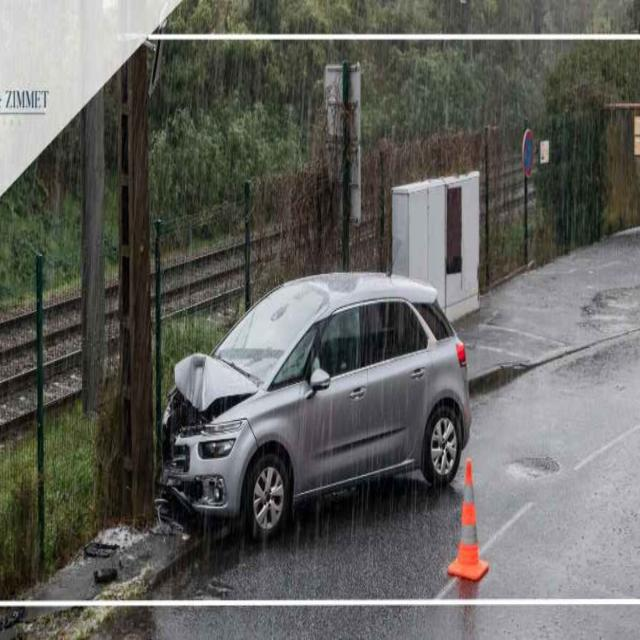Accident: (146, 266, 477, 540)
